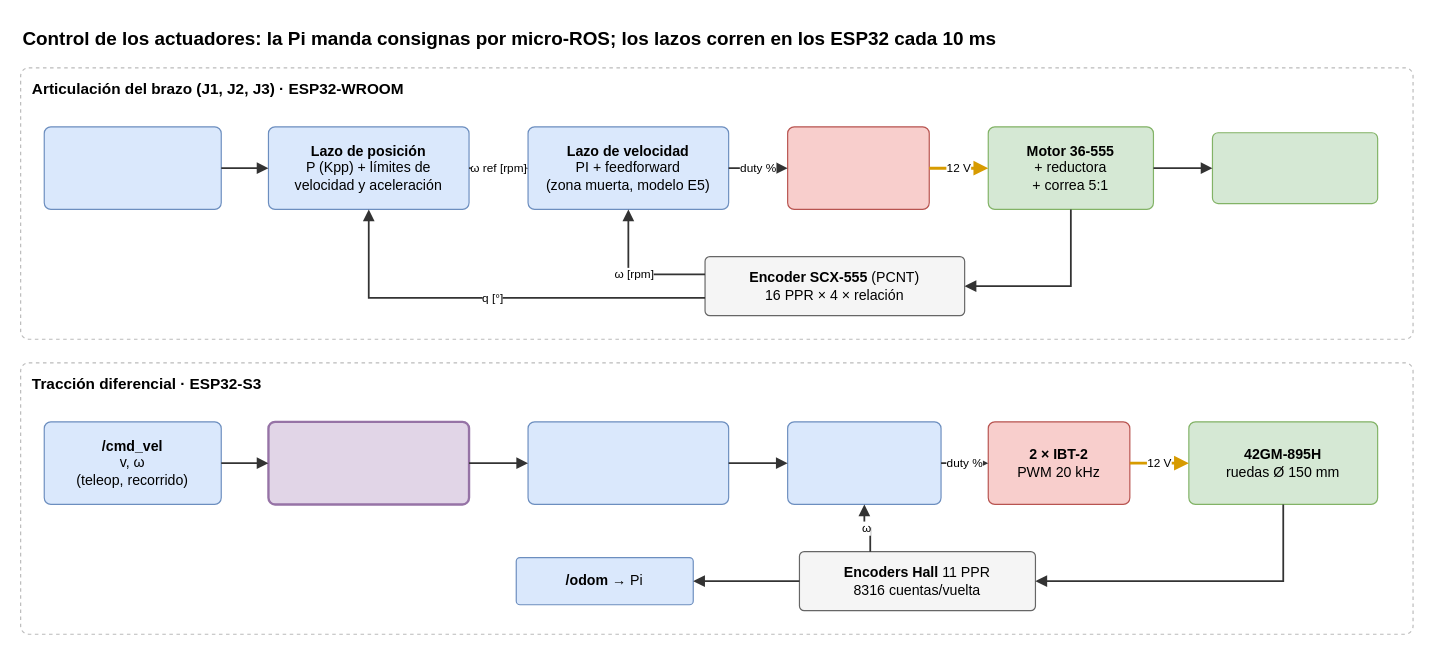
The diagram is 1434 pixels wide and 655 high, and some of its shapes have lost their labels. The centre of each missing label's shape, as x and y in pixels:
/brazo/joint_cmd q objetivo [°] (brazo_ik, mision): point 132,167
Articulación q [°]: point 1294,168
Cinemática diferencial v, ω → ω izq, ω der: point 628,462
IBT-2 PWM 20 kHz duty ≤ 40 %: point 857,167
PI por rueda + feedforward: point 863,462
Rampa + seguridad bumpers, distancia, seta, vuelco, watchdog: point 368,462
